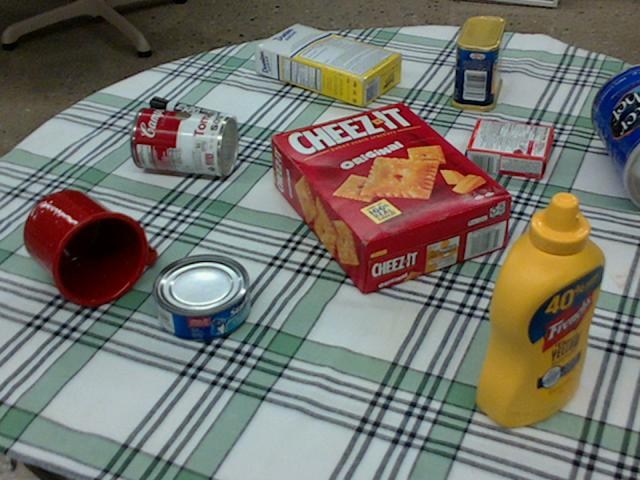cracker_box: (273, 101, 512, 291)
gelatin_box: (464, 119, 550, 176)
large_marker: (148, 96, 234, 128)
master_chef_can: (587, 64, 639, 204)
mug: (22, 190, 153, 306)
mustard_bottle: (477, 190, 605, 425)
potted_meat_can: (450, 15, 504, 110)
sugar_box: (254, 23, 403, 105)
tomato_soup_can: (129, 106, 237, 174)
tuna_fish_can: (150, 254, 249, 341)
